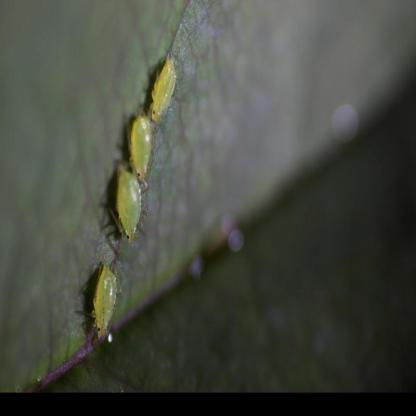aphid: (108, 157, 151, 243), (82, 260, 123, 348), (141, 49, 180, 121), (126, 105, 157, 180)
